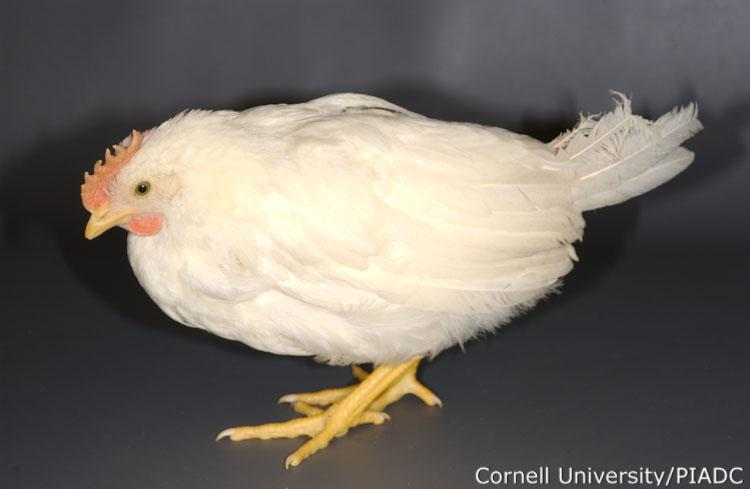AbNormal: (82, 94, 703, 469)
